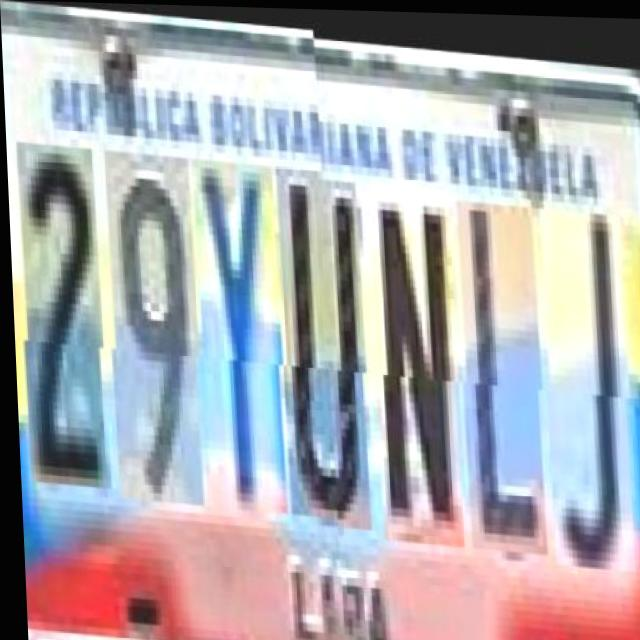2: (15, 149, 105, 495)
9: (102, 156, 203, 511)
j: (537, 198, 633, 559)
l: (454, 191, 544, 545)
n: (366, 177, 462, 538)
u: (273, 169, 369, 523)
y: (190, 163, 286, 517)
